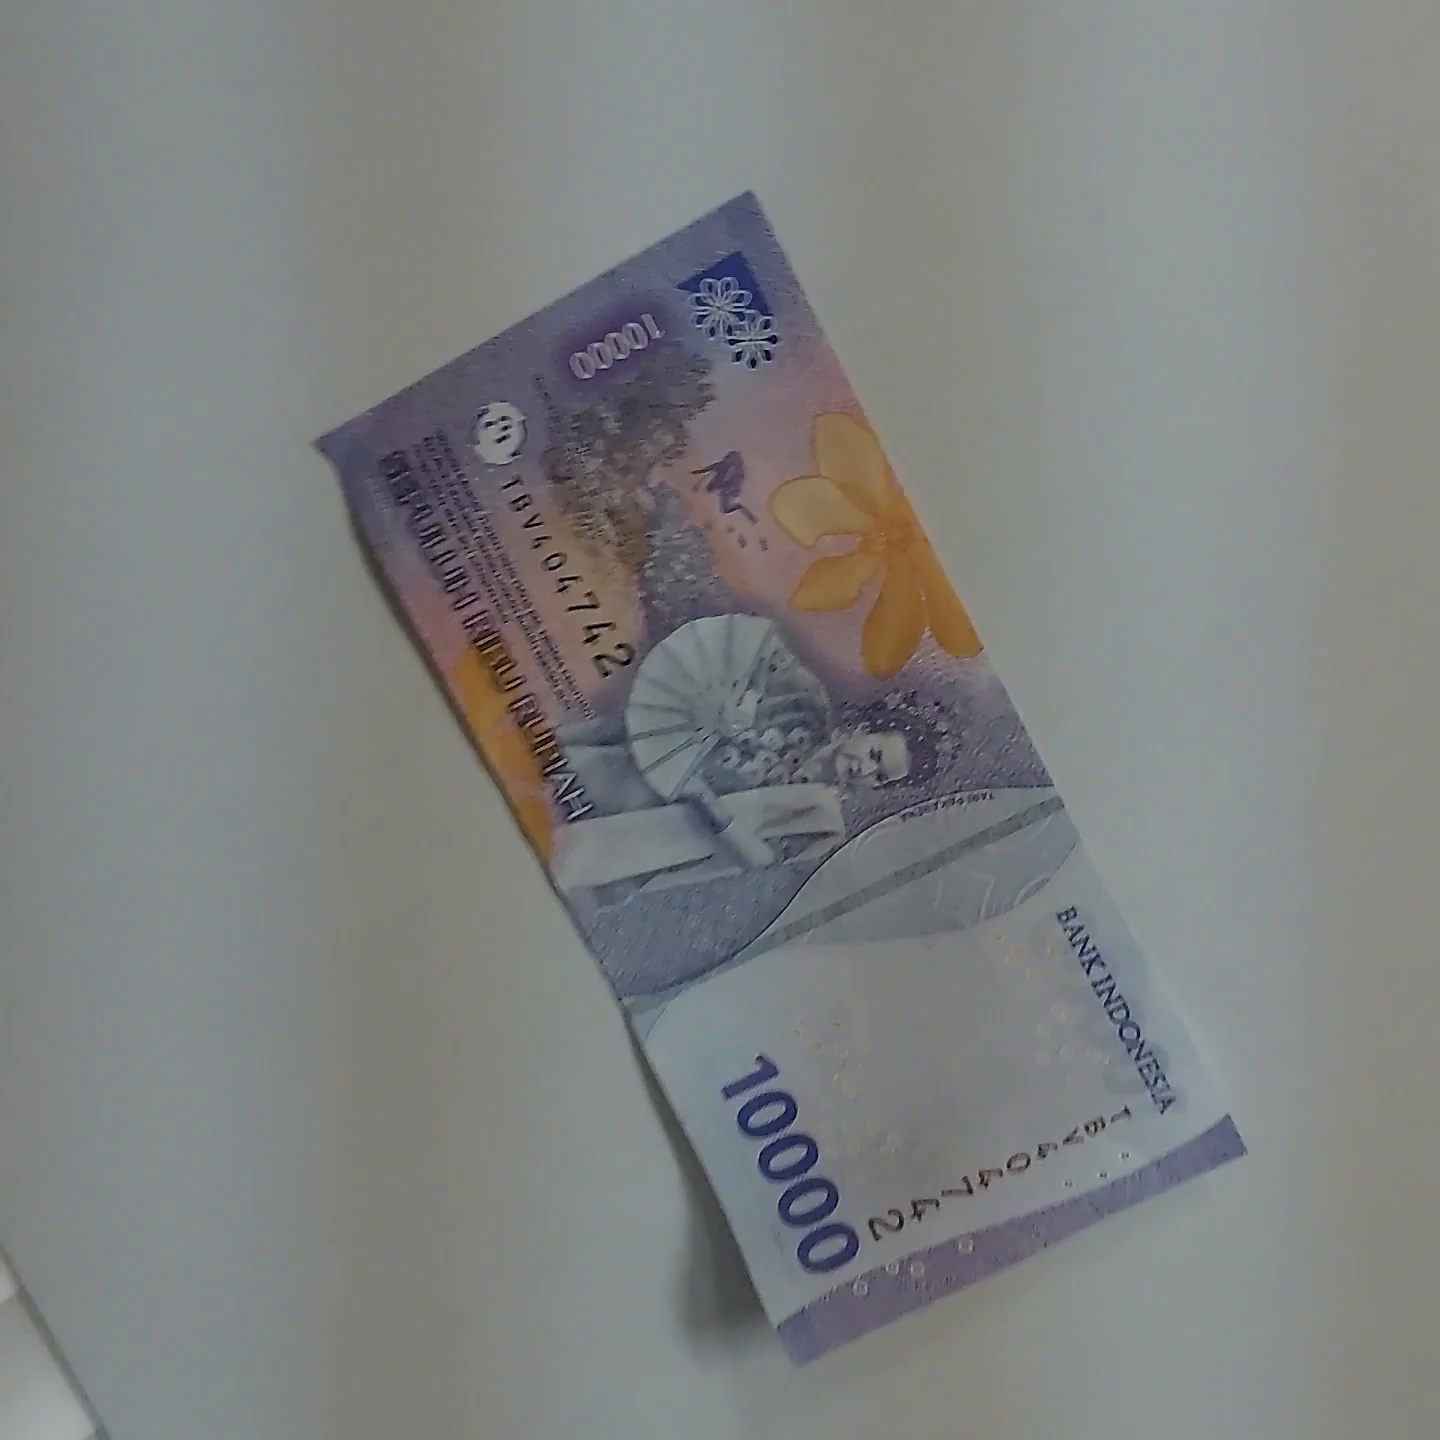10k: (289, 422, 808, 1440)
